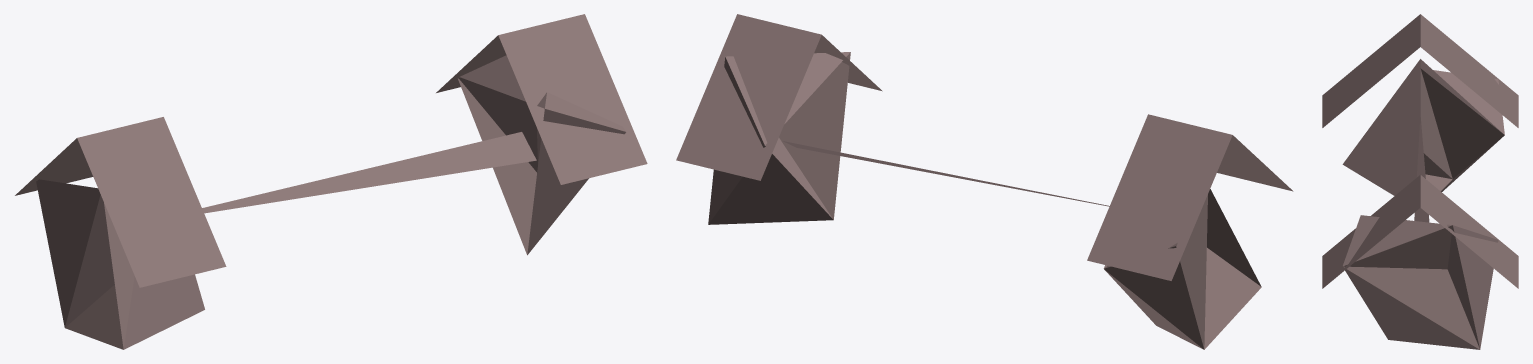
The model's file is bay-jetski-trailer.lod2.glb.
3 renders of one model, left to right at view 1: azimuth 30°, elevation 25°; view 2: azimuth 150°, elevation 25°; view 3: azimuth 270°, elevation 25°, orthographic. The views are drawn at different scales.
Visible parts, largest first — view 1: V1_JetSkiTrailer_1_Stand_1_VehiclesGeneric_0; view 2: V1_JetSkiTrailer_1_Stand_1_VehiclesGeneric_0; view 3: V1_JetSkiTrailer_1_Stand_1_VehiclesGeneric_0.
Boxes of the visible parts, x1,y1,x2,y2 form: V1_JetSkiTrailer_1_Stand_1_VehiclesGeneric_0: (15,14,647,349); V1_JetSkiTrailer_1_Stand_1_VehiclesGeneric_0: (676,14,1293,349); V1_JetSkiTrailer_1_Stand_1_VehiclesGeneric_0: (1322,14,1518,349).
Bounding box in the file's own units: 1.68 × 0.6782 × 0.7177.
